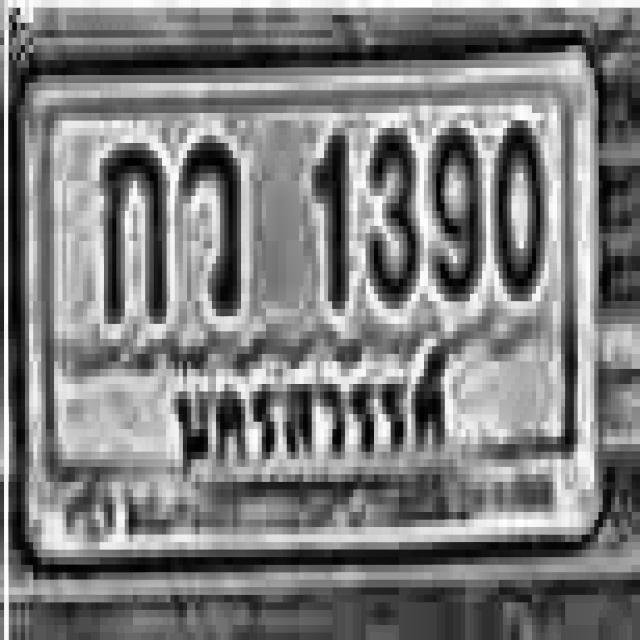license-plate: (21, 45, 606, 569)
